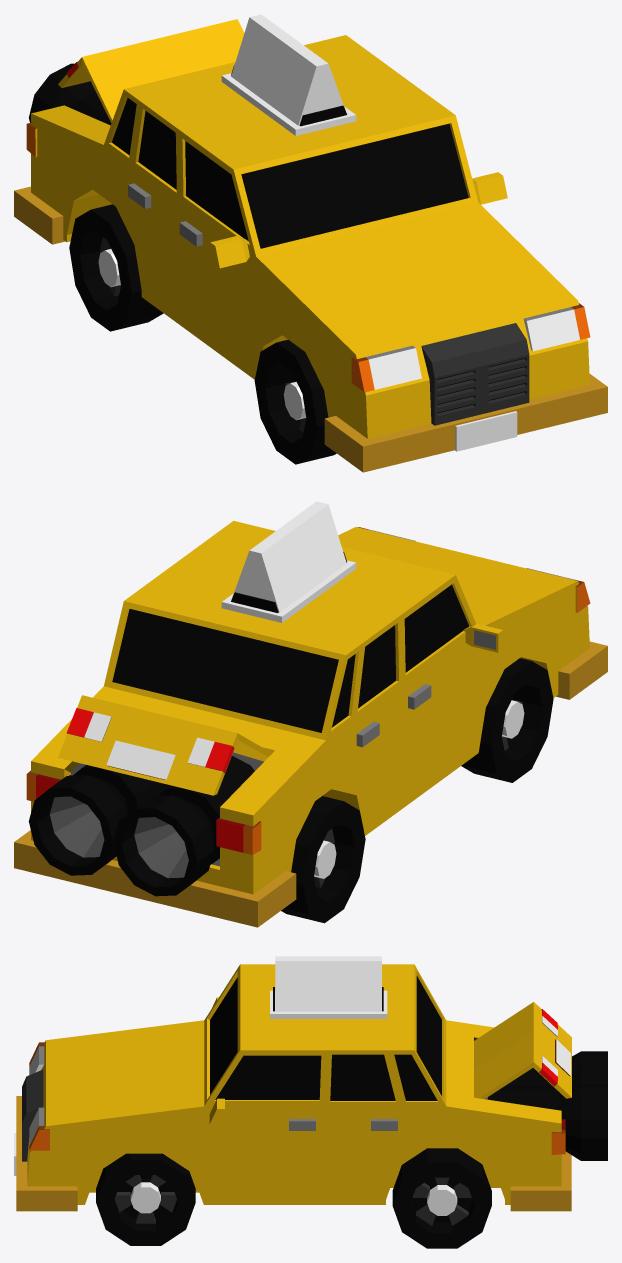
The model's file is Taxi.fbx.
3 views of the same model, one above another, from view 1: azimuth 30°, elevation 25°; view 2: azimuth 150°, elevation 25°; view 3: azimuth 270°, elevation 25° (orthographic). The views are drawn at different scales.
Parts seen in each view (by area): view 1: car.001, ENGINE.001; view 2: car.001, ENGINE.001, Cube.001; view 3: car.001, ENGINE.001, Cube.001.
Part boxes in pixels (x1,y1,x2,y2): car.001: (14, 14, 607, 472); ENGINE.001: (29, 63, 111, 125); car.001: (14, 501, 607, 927); ENGINE.001: (28, 756, 254, 896); Cube.001: (66, 708, 234, 773); car.001: (14, 956, 571, 1248); ENGINE.001: (488, 1051, 607, 1160); Cube.001: (539, 1009, 557, 1086).
Bounding box in the file's own units: 222 × 226 × 499.
Materials: 1 (1 with a texture image).
